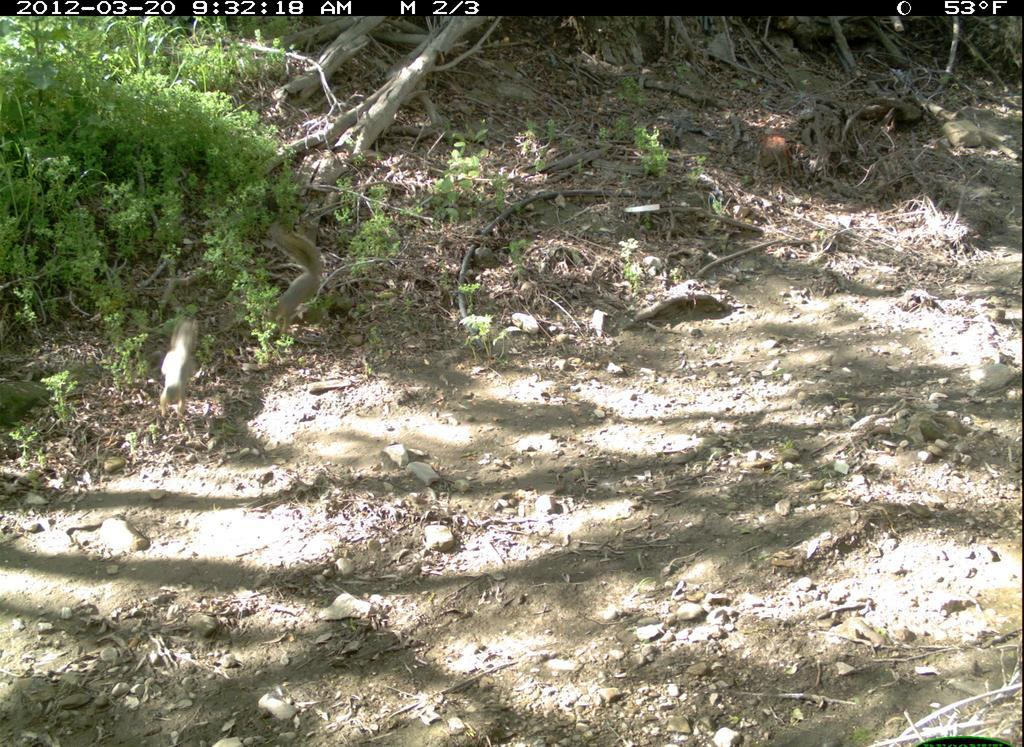squirrel: (253, 219, 330, 344), (153, 308, 211, 427)
